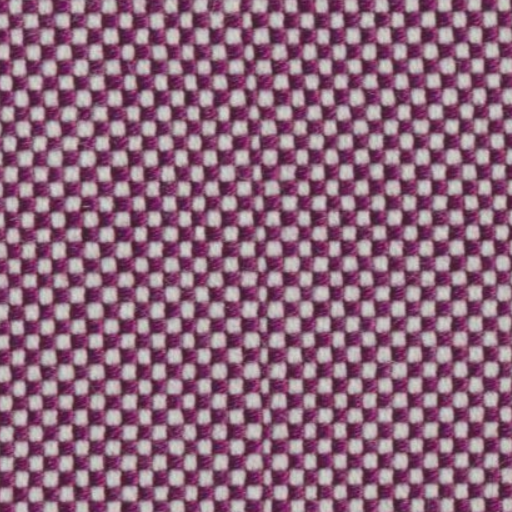TuoSha: (218, 16, 297, 491)
